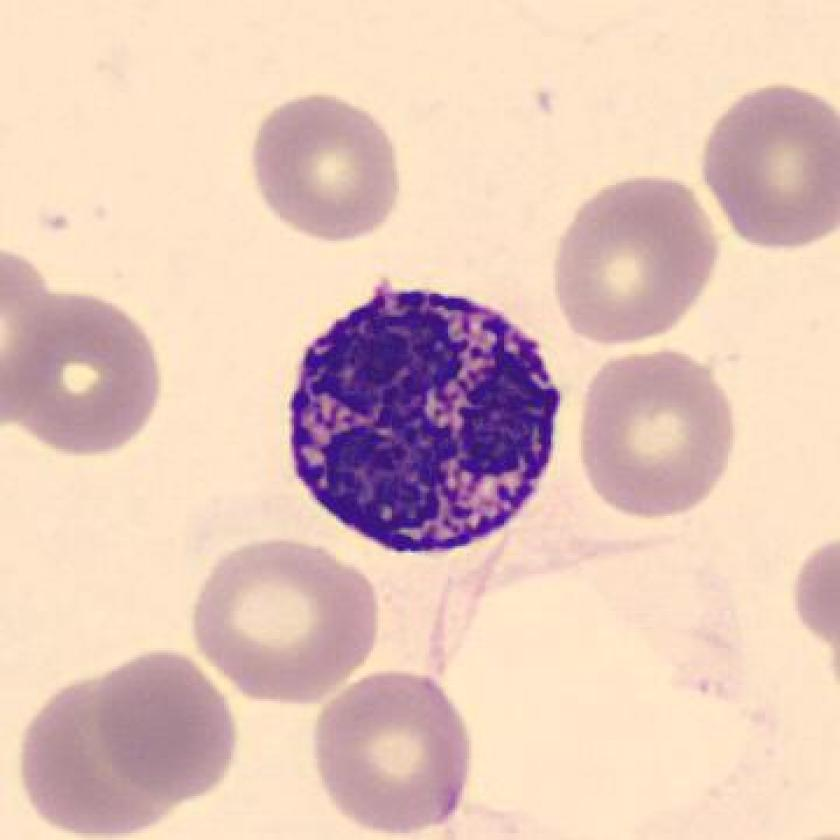basophil: (276, 272, 566, 559)
